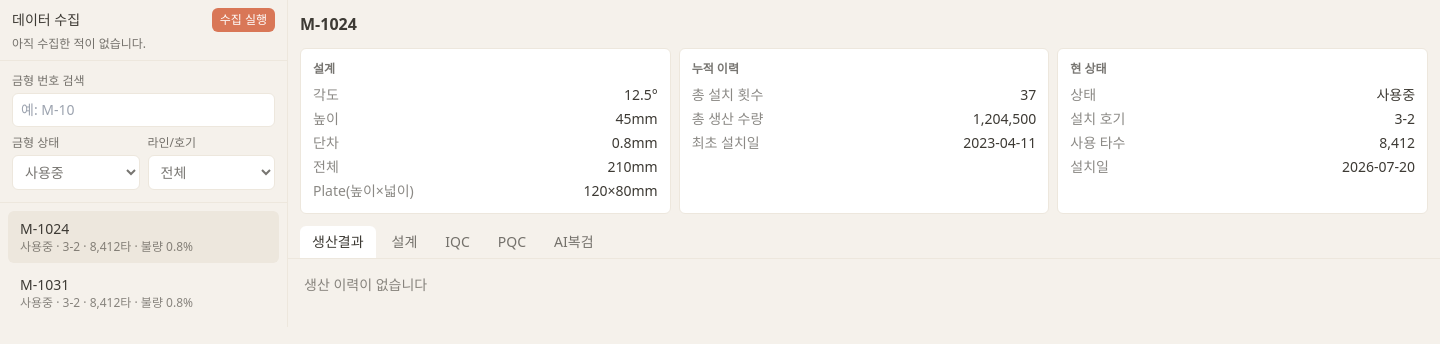
DashboardPage › clears the previous mold's detail immediately on selection, before the new request resolves
The width and height of the screenshot is (1440, 344).
Check: the heading "M-1024" is shown, box [300, 13, 357, 35]
Click the button "M-1031 사용중 · 3-2 · 8,412타 · 불량 0.8%" at {"x": 144, "y": 293}, box [8, 267, 279, 319]
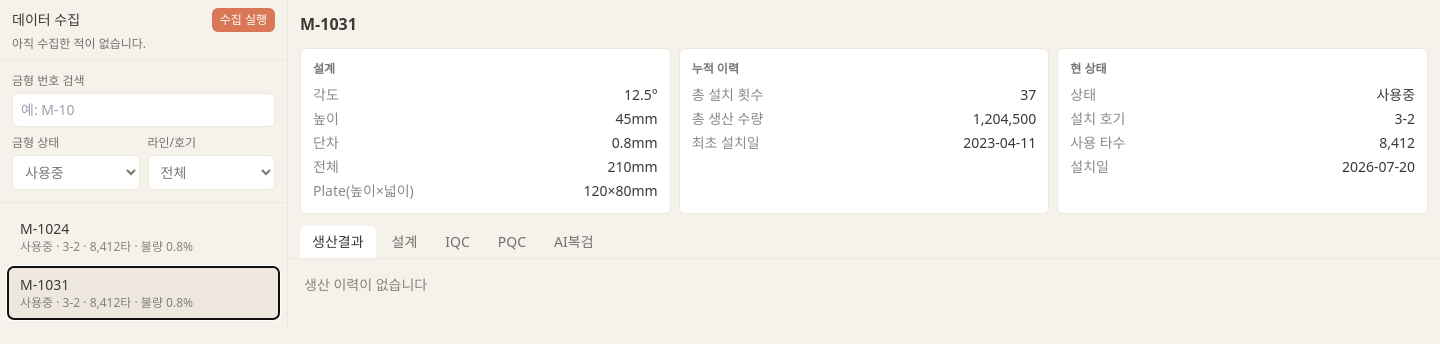
Check: the heading "M-1031" is shown, box [300, 13, 357, 35]
